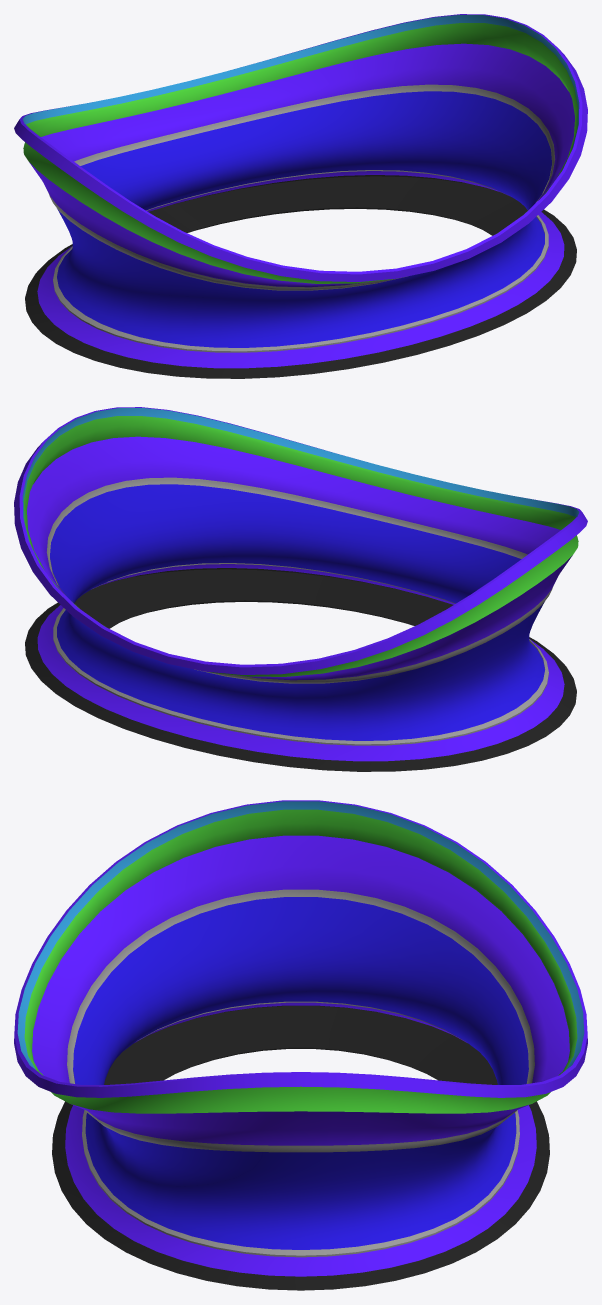
Rendered from Scion Stadium V2.FBX.
3 renders of one model, top to bottom at view 1: azimuth 30°, elevation 25°; view 2: azimuth 150°, elevation 25°; view 3: azimuth 270°, elevation 25°, orthographic. The views are drawn at different scales.
Visible parts, largest first — view 1: Cylinder001; view 2: Cylinder001; view 3: Cylinder001.
Part boxes in pixels (bbox=[...]): Cylinder001: bbox=[14, 14, 587, 378]; Cylinder001: bbox=[14, 407, 587, 771]; Cylinder001: bbox=[14, 800, 587, 1290].
Size of the model in its own units: 127 by 47 by 108.
